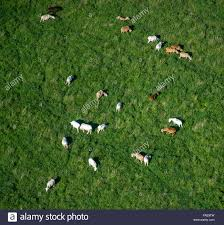sheep: (130, 151, 143, 165), (88, 158, 99, 174), (80, 121, 92, 135), (168, 116, 182, 128), (45, 178, 56, 192), (70, 120, 80, 133), (97, 123, 106, 135), (64, 74, 73, 86), (144, 153, 151, 167), (62, 136, 69, 149), (115, 102, 122, 114)
